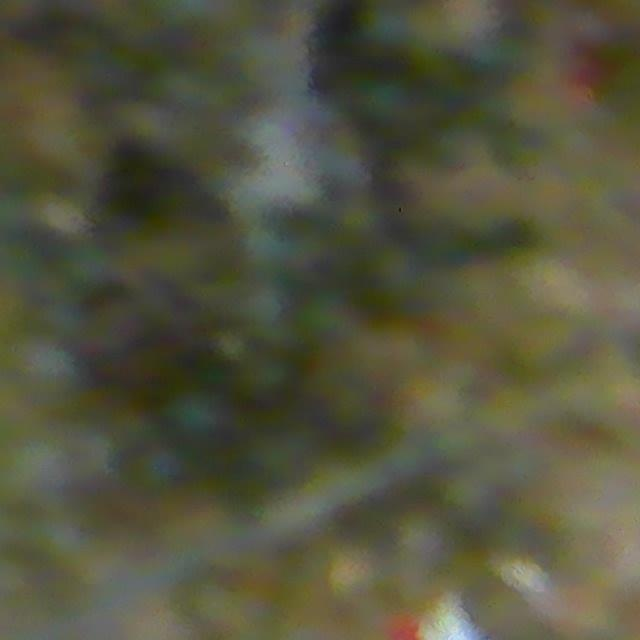SeaGrape: (161, 382, 241, 455)
